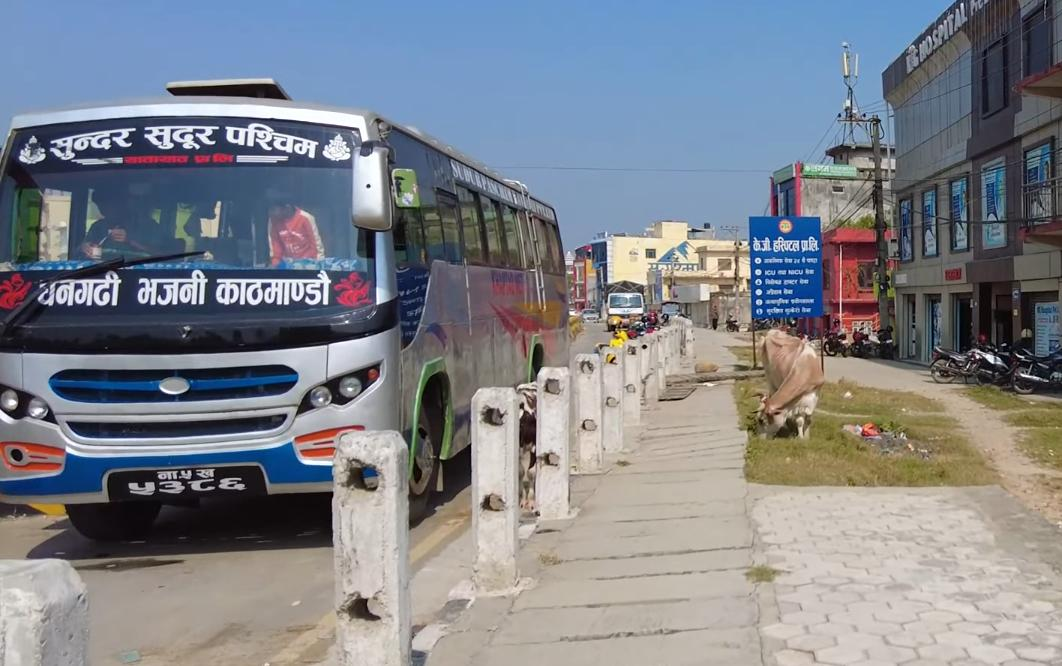bus: (0, 73, 583, 563)
